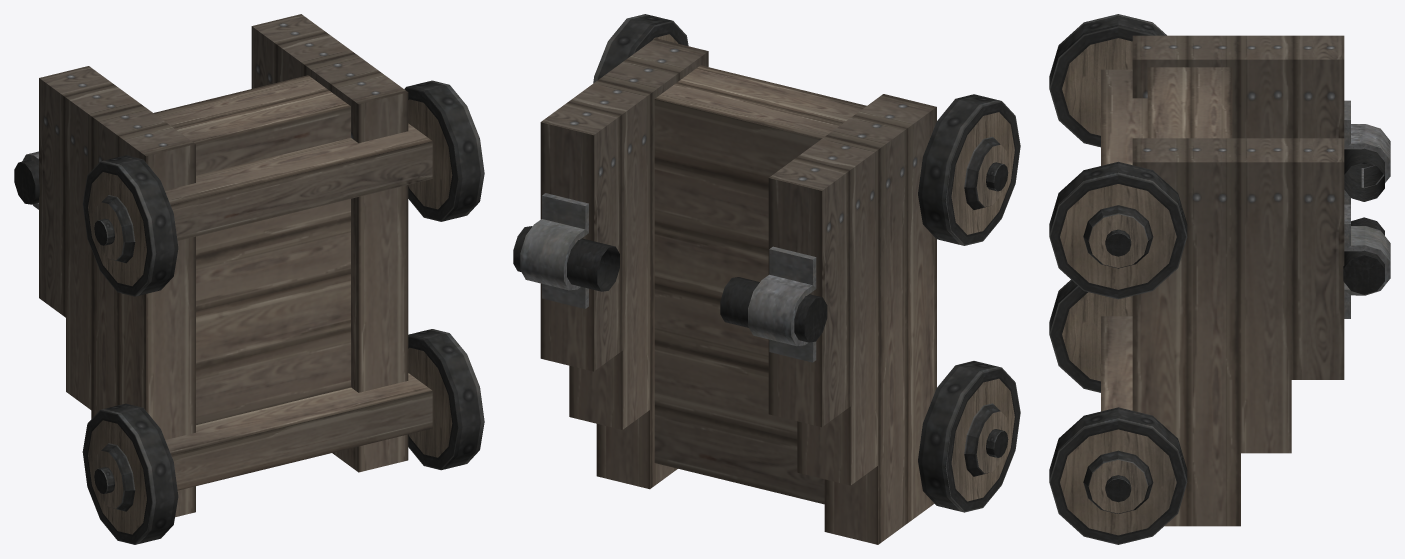
Rendered from Cannon_Base.fbx.
3 views of the same model, side by side, from view 1: azimuth 30°, elevation 25°; view 2: azimuth 150°, elevation 25°; view 3: azimuth 270°, elevation 25° (orthographic). The views are drawn at different scales.
Visible parts, largest first — view 1: Cannon_Base; view 2: Cannon_Base; view 3: Cannon_Base.
Boxes of the visible parts, <box> form: Cannon_Base: <box>14,14,484,544</box>; Cannon_Base: <box>513,14,1020,544</box>; Cannon_Base: <box>1049,14,1390,544</box>.
Size of the model in its own units: 1.35 by 1.32 by 1.1.
